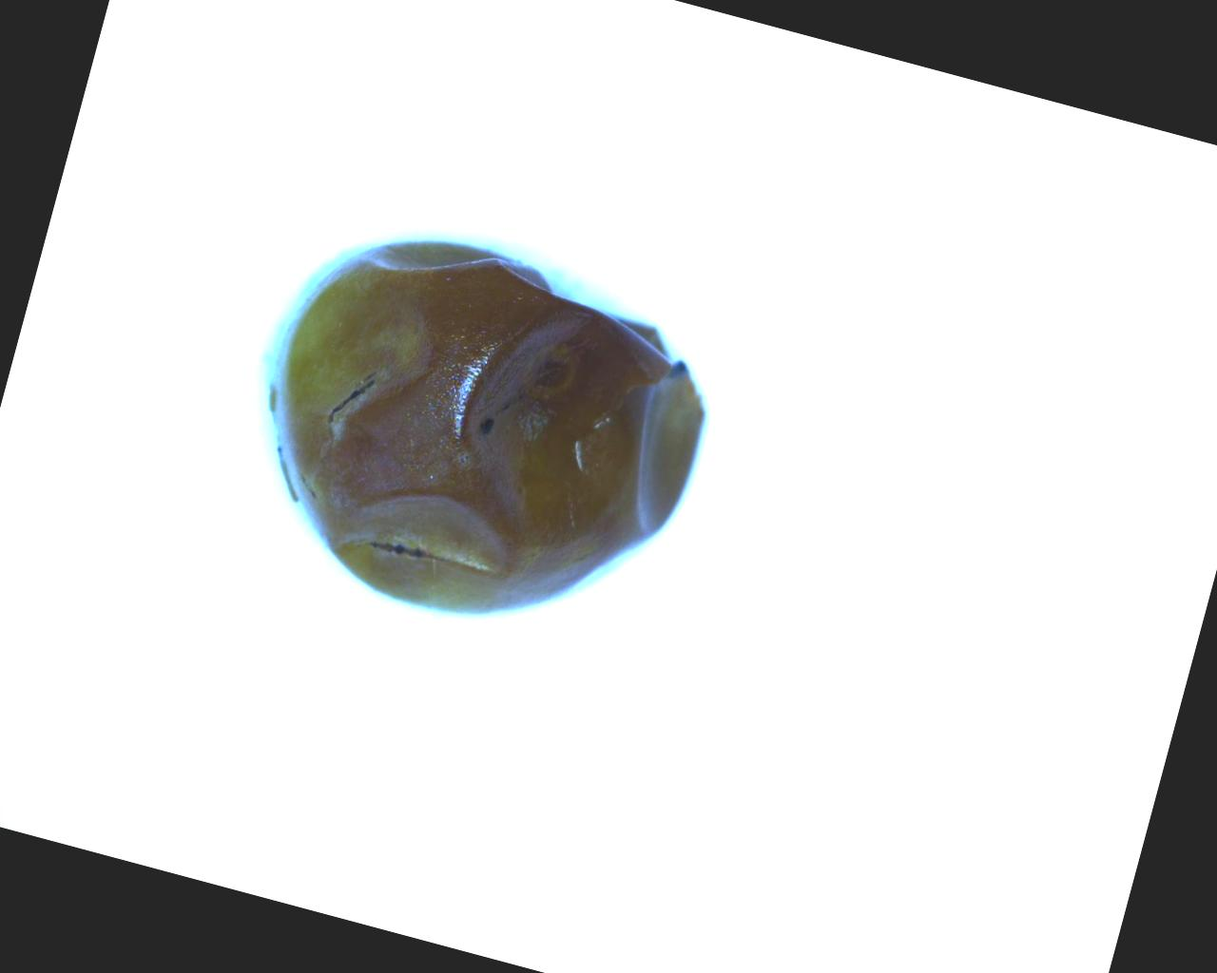Grape Rotten: (217, 199, 737, 668)
